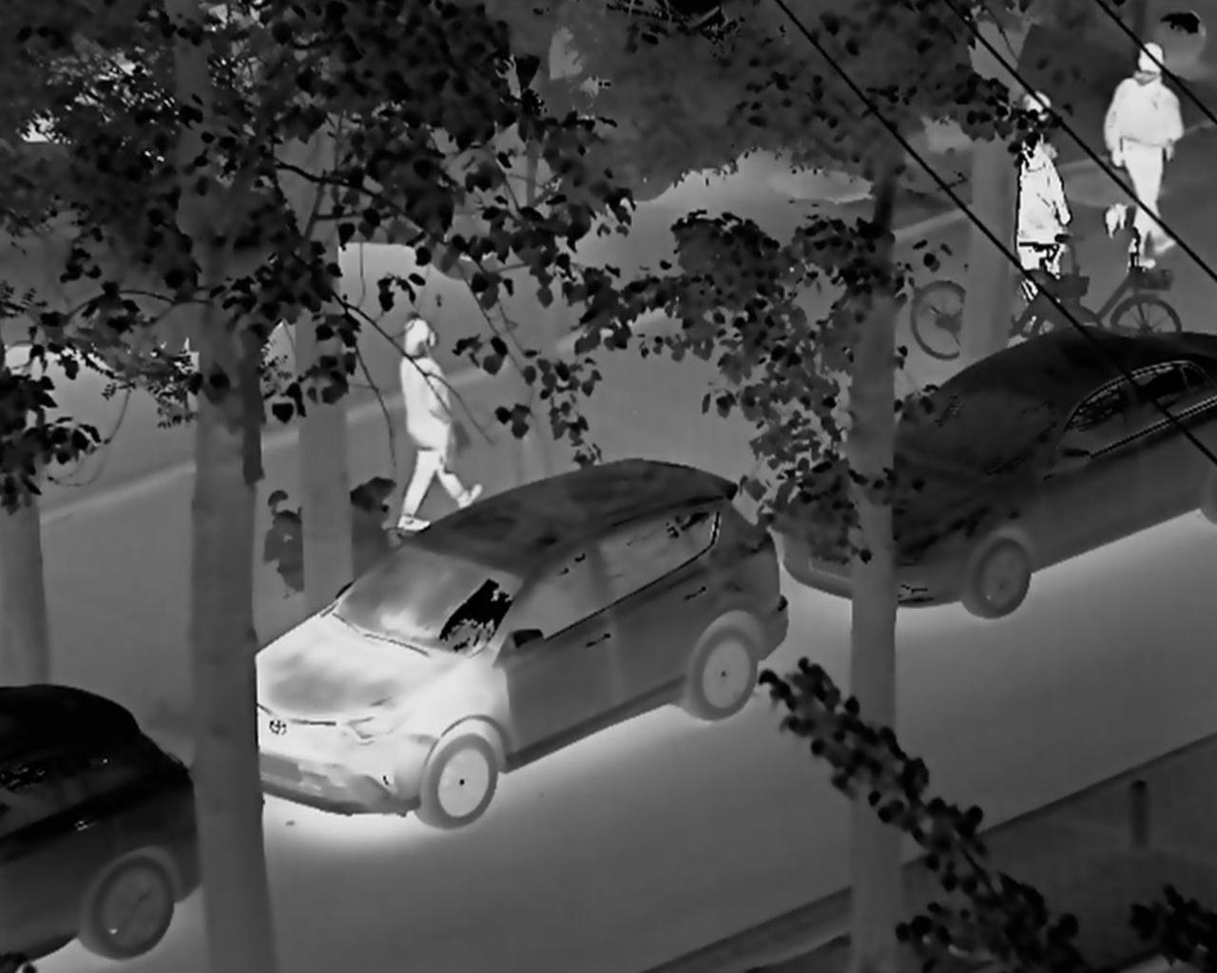person: (1101, 40, 1191, 280), (383, 314, 483, 529), (1011, 80, 1068, 282)
